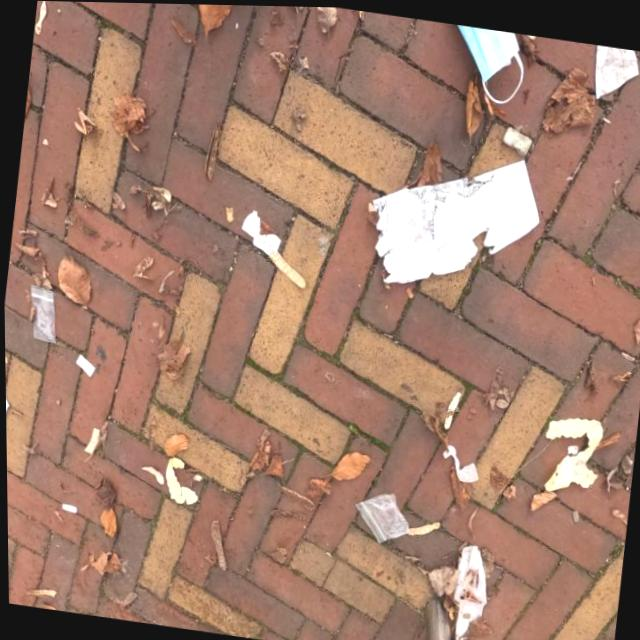Mask: (446, 22, 528, 104)
Paper: (360, 134, 547, 302), (537, 409, 605, 496), (445, 540, 492, 640), (588, 42, 640, 104), (237, 205, 284, 257), (159, 454, 202, 507), (5, 387, 10, 429)
